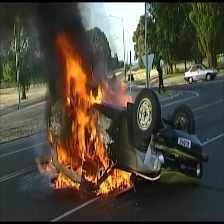fire_h: (57, 33, 116, 185), (95, 167, 131, 196), (55, 170, 80, 191)
fire_l: (119, 94, 132, 107), (45, 158, 55, 171), (48, 130, 53, 142), (120, 81, 126, 90)
